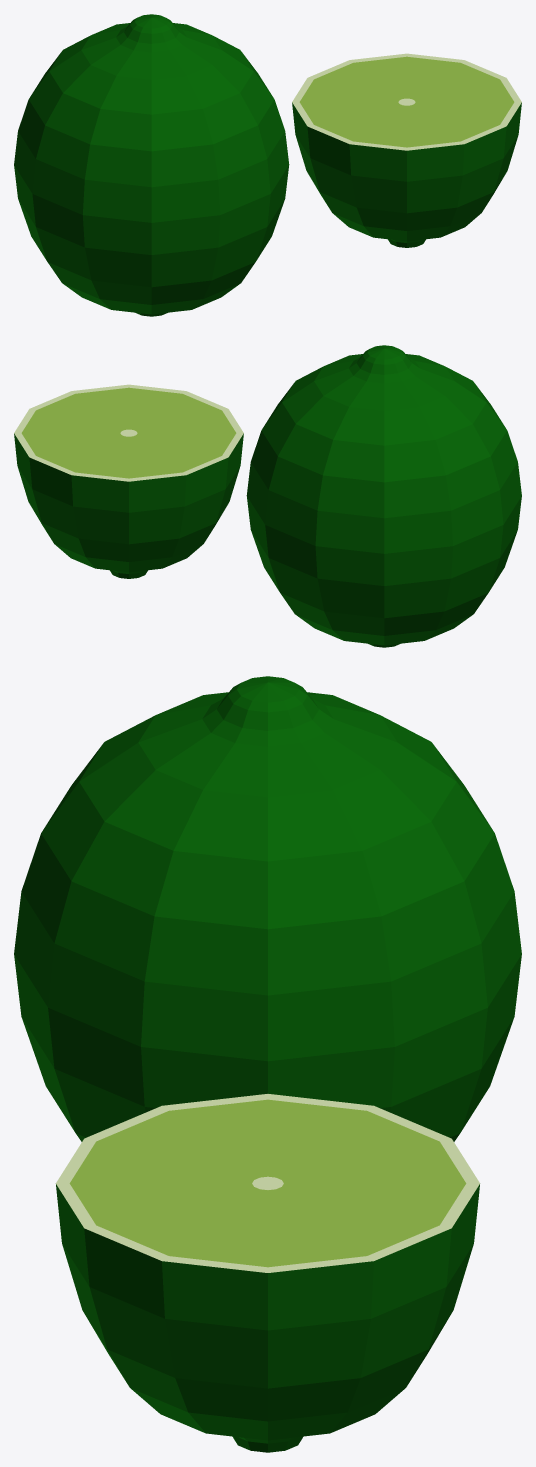
3 renders of one model, top to bottom at view 1: azimuth 30°, elevation 25°; view 2: azimuth 150°, elevation 25°; view 3: azimuth 270°, elevation 25°, orthographic. The views are drawn at different scales.
Visible parts, largest first — view 1: Node; view 2: Node; view 3: Node.
Part boxes in pixels (box(x1,y1,x2,y2)): Node: box(14, 14, 521, 316); Node: box(14, 345, 521, 647); Node: box(14, 676, 521, 1452).
Size of the model in its own units: 3.98 by 2.37 by 2.
